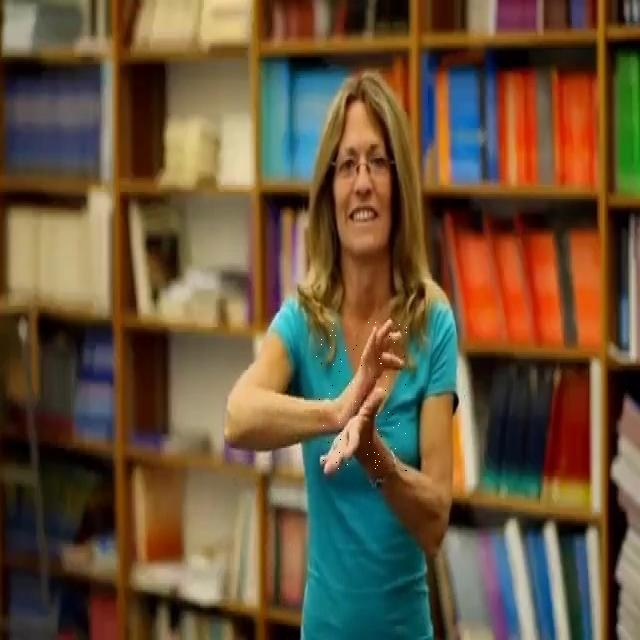cheese: (316, 320, 408, 477)
